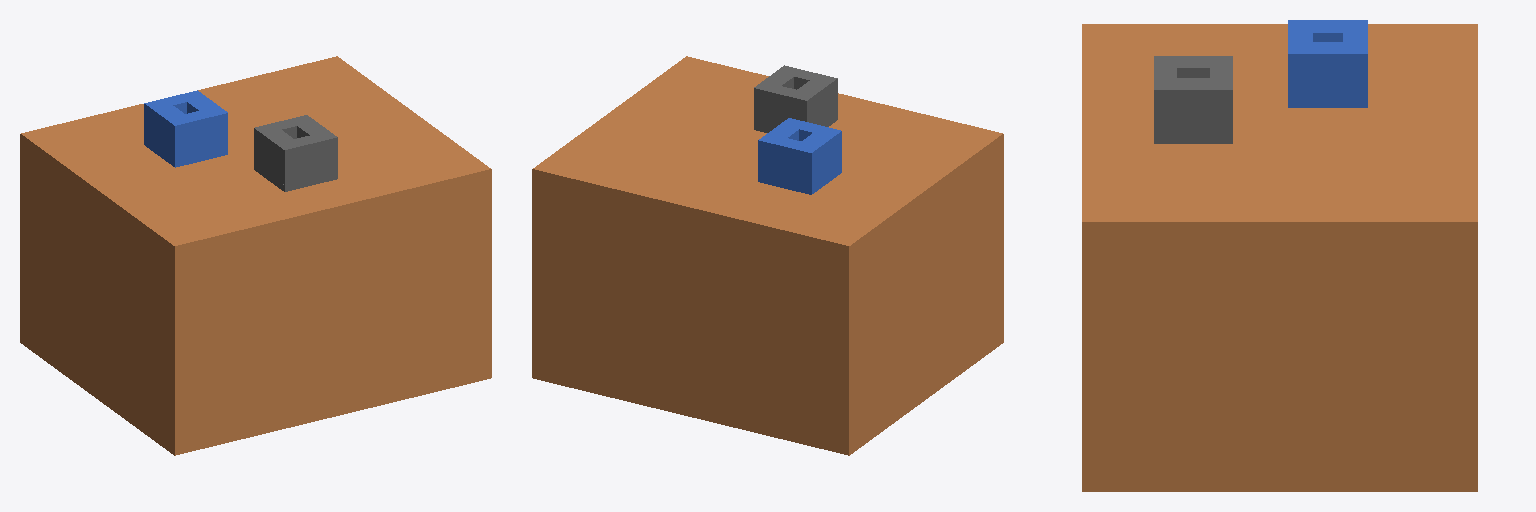
The robot description file, URDF, robot "peg_in_hole_fixtured_scene_0019_peg0008_tol01":
<?xml version="1.0"?>
<robot name="peg_in_hole_fixtured_scene_0019_peg0008_tol01">
  <material name="wood"><color rgba="0.82 0.56 0.35 1.0"/></material>
  <material name="start_fix"><color rgba="0.30 0.50 0.85 1.0"/></material>
  <material name="goal_fix"><color rgba="0.4706 0.4706 0.4706 1.0"/></material>
  <link name="box">
    <visual>
      <origin xyz="0.000000 0.000000 0.000000" rpy="0 0 0"/>
      <geometry><box size="0.475000 0.400000 0.300000"/></geometry>
      <material name="wood"/>
    </visual>
    <collision>
      <origin xyz="0.000000 0.000000 0.000000" rpy="0 0 0"/>
      <geometry><box size="0.475000 0.400000 0.300000"/></geometry>
    </collision>
    <visual>
      <origin xyz="-0.076409 0.048568 0.155000" rpy="0 0 0"/>
      <geometry><box size="0.080000 0.080000 0.010000"/></geometry>
      <material name="start_fix"/>
    </visual>
    <collision>
      <origin xyz="-0.076409 0.048568 0.155000" rpy="0 0 0"/>
      <geometry><box size="0.080000 0.080000 0.010000"/></geometry>
    </collision>
    <visual>
      <origin xyz="-0.051159 0.048568 0.185000" rpy="0 0 0"/>
      <geometry><box size="0.029500 0.080000 0.050000"/></geometry>
      <material name="start_fix"/>
    </visual>
    <collision>
      <origin xyz="-0.051159 0.048568 0.185000" rpy="0 0 0"/>
      <geometry><box size="0.029500 0.080000 0.050000"/></geometry>
    </collision>
    <visual>
      <origin xyz="-0.101659 0.048568 0.185000" rpy="0 0 0"/>
      <geometry><box size="0.029500 0.080000 0.050000"/></geometry>
      <material name="start_fix"/>
    </visual>
    <collision>
      <origin xyz="-0.101659 0.048568 0.185000" rpy="0 0 0"/>
      <geometry><box size="0.029500 0.080000 0.050000"/></geometry>
    </collision>
    <visual>
      <origin xyz="-0.076409 0.076318 0.185000" rpy="0 0 0"/>
      <geometry><box size="0.021000 0.024500 0.050000"/></geometry>
      <material name="start_fix"/>
    </visual>
    <collision>
      <origin xyz="-0.076409 0.076318 0.185000" rpy="0 0 0"/>
      <geometry><box size="0.021000 0.024500 0.050000"/></geometry>
    </collision>
    <visual>
      <origin xyz="-0.076409 0.020818 0.185000" rpy="0 0 0"/>
      <geometry><box size="0.021000 0.024500 0.050000"/></geometry>
      <material name="start_fix"/>
    </visual>
    <collision>
      <origin xyz="-0.076409 0.020818 0.185000" rpy="0 0 0"/>
      <geometry><box size="0.021000 0.024500 0.050000"/></geometry>
    </collision>
    <visual>
      <origin xyz="0.009141 -0.087522 0.155000" rpy="0 0 0"/>
      <geometry><box size="0.080000 0.080000 0.010000"/></geometry>
      <material name="goal_fix"/>
    </visual>
    <collision>
      <origin xyz="0.009141 -0.087522 0.155000" rpy="0 0 0"/>
      <geometry><box size="0.080000 0.080000 0.010000"/></geometry>
    </collision>
    <visual>
      <origin xyz="0.035023 -0.087522 0.185000" rpy="0 0 0"/>
      <geometry><box size="0.028237 0.080000 0.050000"/></geometry>
      <material name="goal_fix"/>
    </visual>
    <collision>
      <origin xyz="0.035023 -0.087522 0.185000" rpy="0 0 0"/>
      <geometry><box size="0.028237 0.080000 0.050000"/></geometry>
    </collision>
    <visual>
      <origin xyz="-0.016740 -0.087522 0.185000" rpy="0 0 0"/>
      <geometry><box size="0.028237 0.080000 0.050000"/></geometry>
      <material name="goal_fix"/>
    </visual>
    <collision>
      <origin xyz="-0.016740 -0.087522 0.185000" rpy="0 0 0"/>
      <geometry><box size="0.028237 0.080000 0.050000"/></geometry>
    </collision>
    <visual>
      <origin xyz="0.009141 -0.059140 0.185000" rpy="0 0 0"/>
      <geometry><box size="0.023527 0.023237 0.050000"/></geometry>
      <material name="goal_fix"/>
    </visual>
    <collision>
      <origin xyz="0.009141 -0.059140 0.185000" rpy="0 0 0"/>
      <geometry><box size="0.023527 0.023237 0.050000"/></geometry>
    </collision>
    <visual>
      <origin xyz="0.009141 -0.115904 0.185000" rpy="0 0 0"/>
      <geometry><box size="0.023527 0.023237 0.050000"/></geometry>
      <material name="goal_fix"/>
    </visual>
    <collision>
      <origin xyz="0.009141 -0.115904 0.185000" rpy="0 0 0"/>
      <geometry><box size="0.023527 0.023237 0.050000"/></geometry>
    </collision>
    <inertial>
      <mass value="500"/>
      <friction value="1.0"/>
      <inertia ixx="1000.0" ixy="0.0" ixz="0.0" iyy="1000.0" iyz="0.0" izz="1000.0"/>
    </inertial>
  </link>
</robot>

--- What the picture shows (computed from the rendered views, not written in the file) ---
3 views of the same robot in one strip: view 1: azimuth 30°, elevation 25°; view 2: azimuth 150°, elevation 25°; view 3: azimuth 270°, elevation 25° (orthographic).
Model peg_in_hole_fixtured_scene_0019_peg0008_tol01 with 1 links and 0 joints (none), rooted at box, posed every joint at zero.
Visible links, largest first — view 1: box; view 2: box; view 3: box.
Link boxes in pixels (x1,y1,x2,y2): box: [20, 56, 491, 455]; box: [532, 56, 1003, 455]; box: [1082, 20, 1477, 491].
Size in the robot's own frame: 0.475 by 0.4 by 0.36 metres.
Geometry: primitives only (box / cylinder / sphere), no mesh files.
